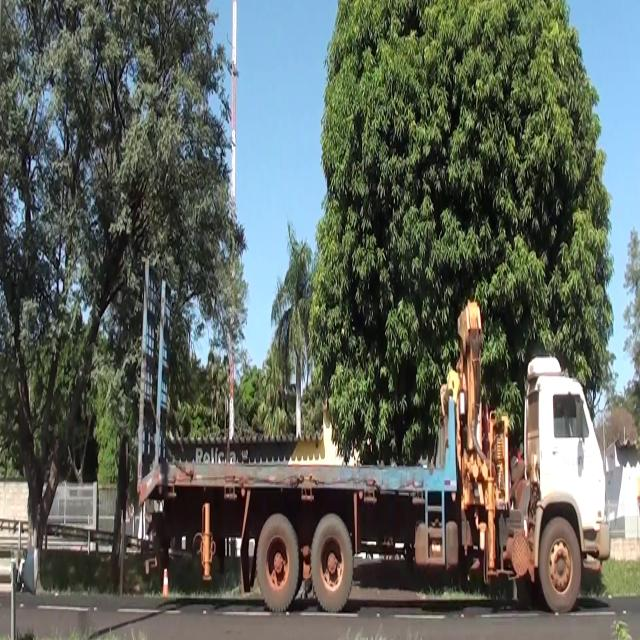-axle: (538, 515, 583, 615), (256, 516, 299, 612), (312, 513, 352, 612)
